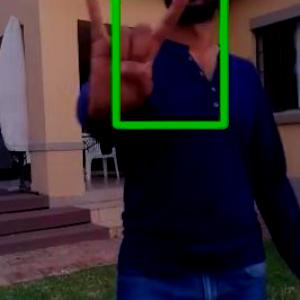takeoff-hand: (75, 0, 200, 127)
